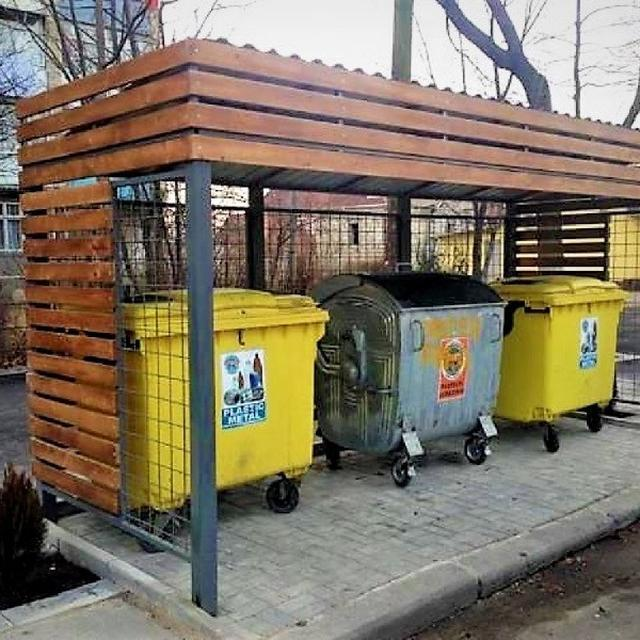Trash_Can_Closed: (127, 286, 331, 508), (491, 273, 627, 421)
Trash_Can_Empty: (309, 272, 508, 451)
